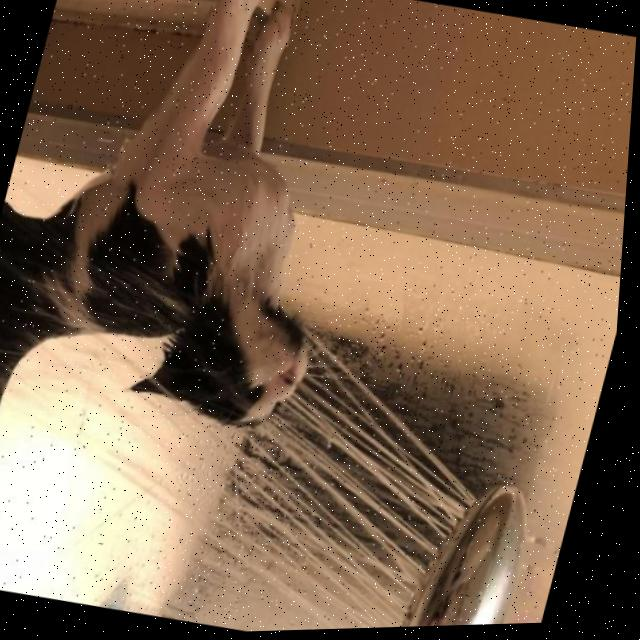Cats: (0, 0, 440, 530)
